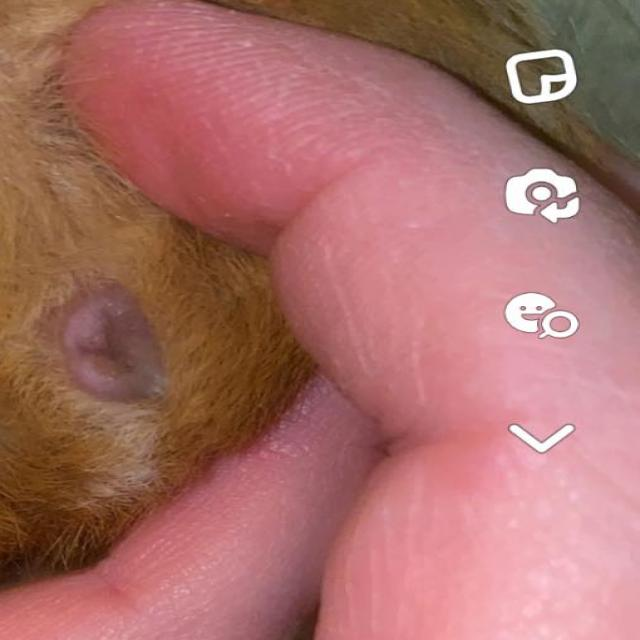fem: (42, 293, 192, 415)
